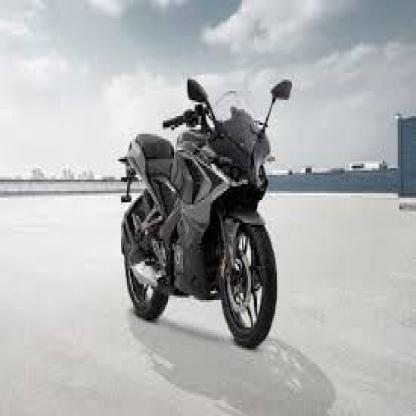Motorcycle: (119, 62, 296, 354)
